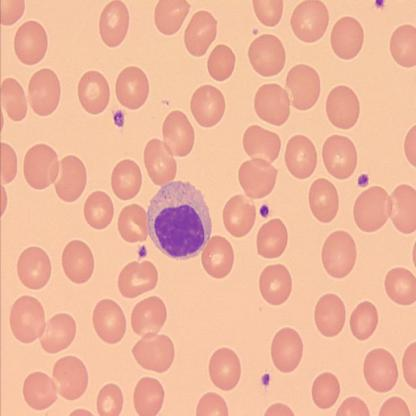Lymphocyte: (146, 179, 213, 260)
